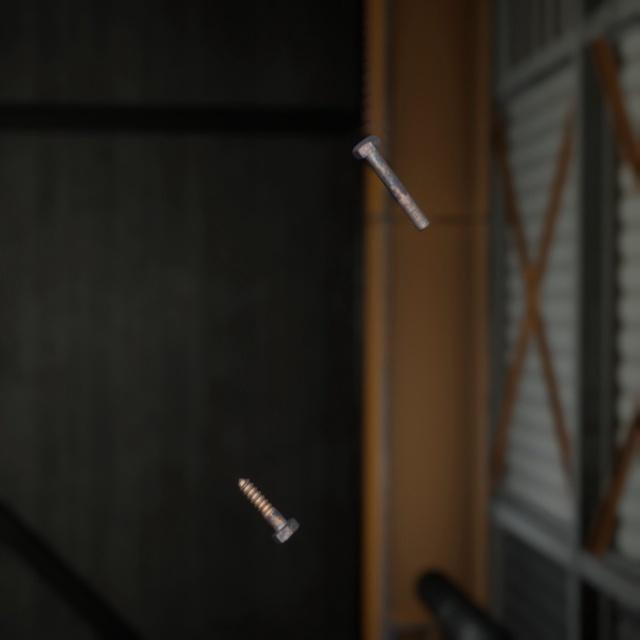bolt: (347, 117, 434, 222), (233, 451, 304, 526)
